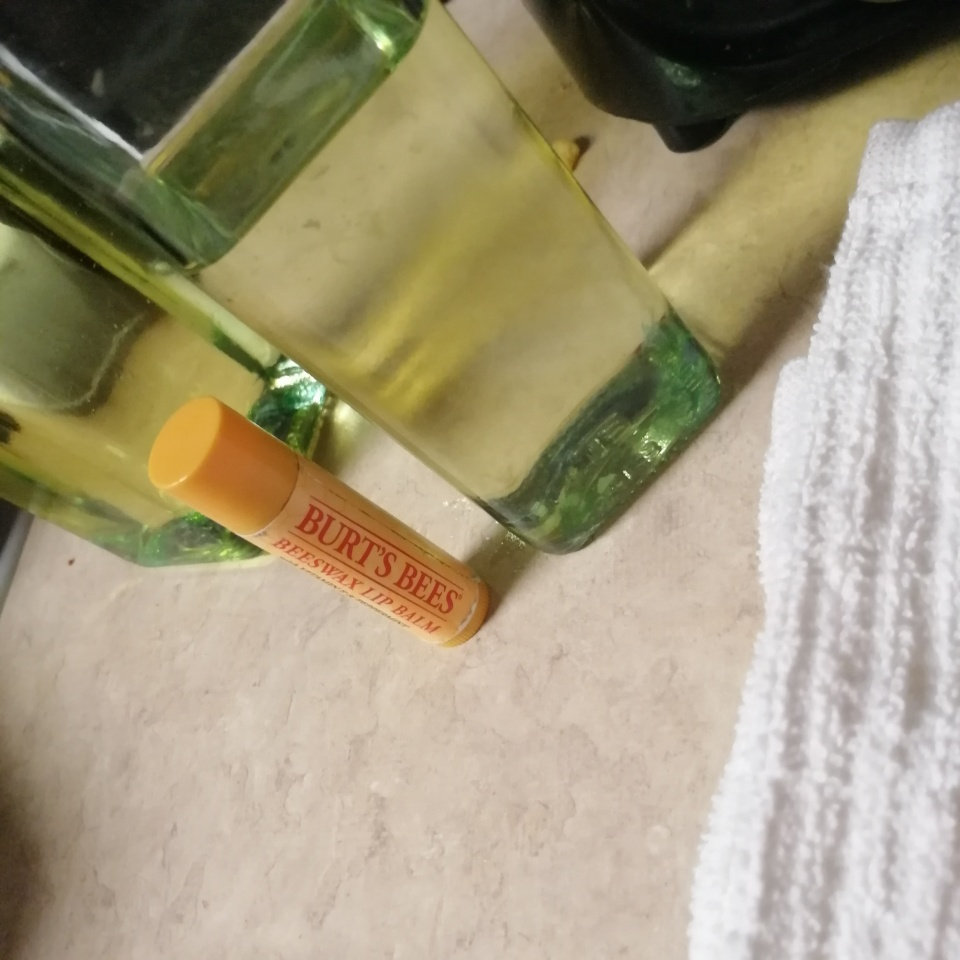chapstick: (147, 393, 494, 649)
